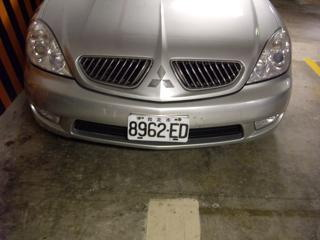plate: (126, 112, 190, 142)
